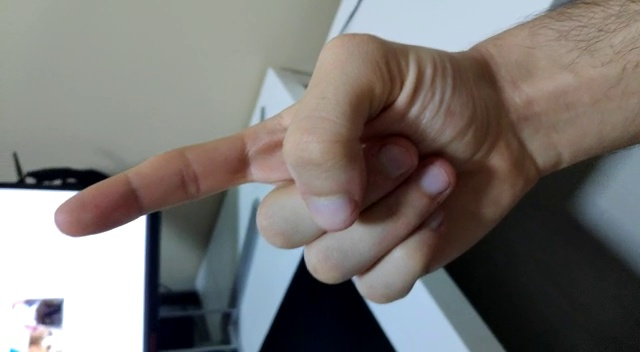One: (49, 9, 582, 331)
